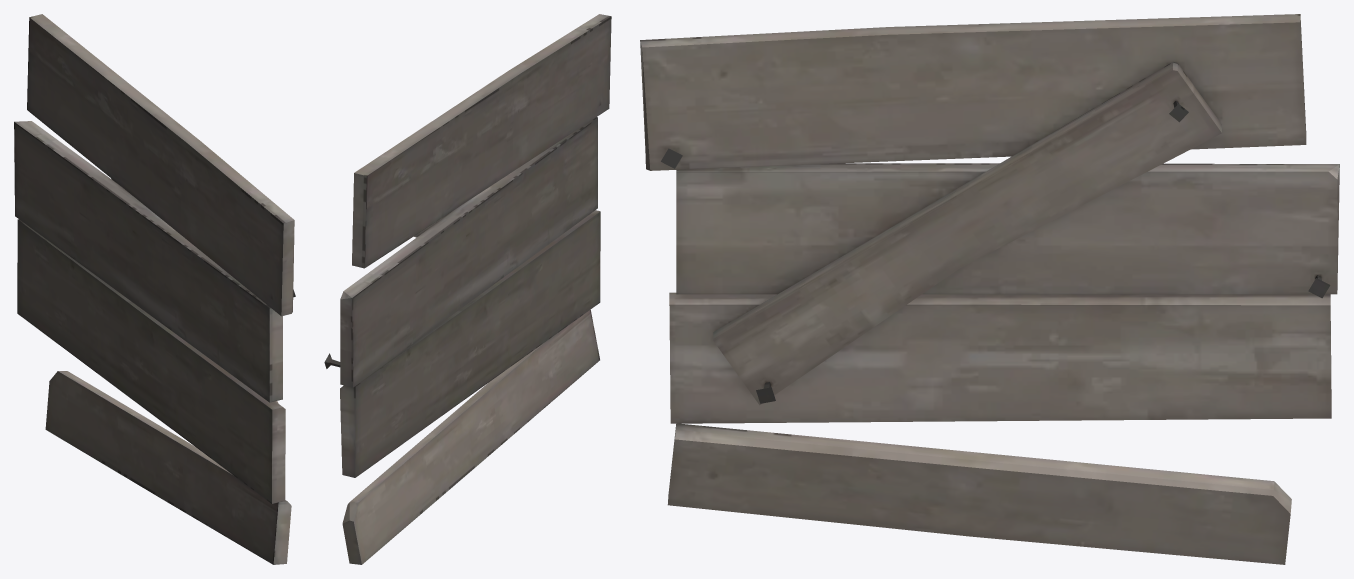
3 views of the same model, side by side, from view 1: azimuth 30°, elevation 25°; view 2: azimuth 150°, elevation 25°; view 3: azimuth 270°, elevation 25° (orthographic). The views are drawn at different scales.
Visible parts, largest first — view 1: body0_model0_lod0_mesh0; view 2: body0_model0_lod0_mesh0; view 3: body0_model0_lod0_mesh0.
Part boxes in pixels (box(x1,y1,x2,y2)): body0_model0_lod0_mesh0: box(14, 14, 295, 564); body0_model0_lod0_mesh0: box(324, 14, 611, 564); body0_model0_lod0_mesh0: box(640, 14, 1339, 564).
Bounding box in the file's own units: 8.15 × 67.84 × 80.28.
Materials: 1 (1 with a texture image).
